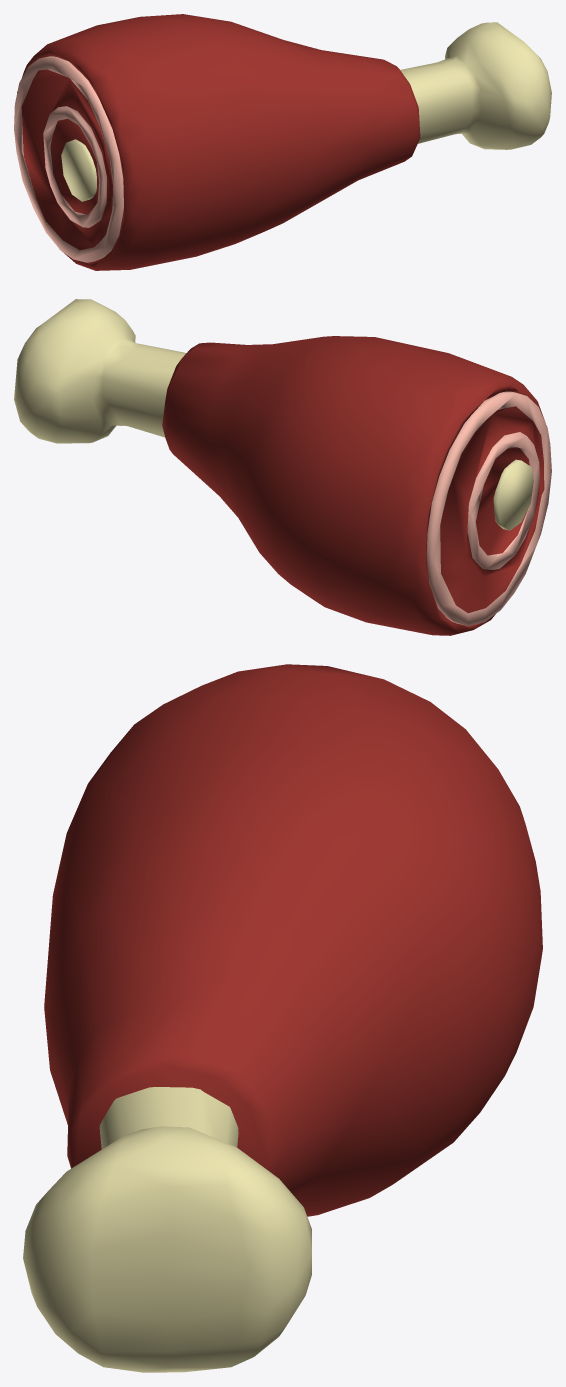
The model's file is Food (12).fbx.
3 renders of one model, top to bottom at view 1: azimuth 30°, elevation 25°; view 2: azimuth 150°, elevation 25°; view 3: azimuth 270°, elevation 25°, orthographic. The views are drawn at different scales.
Parts seen in each view (by area): view 1: Cube.016; view 2: Cube.016; view 3: Cube.016.
Part boxes in pixels (left/top/right/bottom): Cube.016: left=14, top=14, right=551, bottom=270; Cube.016: left=14, top=299, right=551, bottom=635; Cube.016: left=23, top=664, right=542, bottom=1372.
Size of the model in its own units: 17.78 by 8.74 by 9.2.
